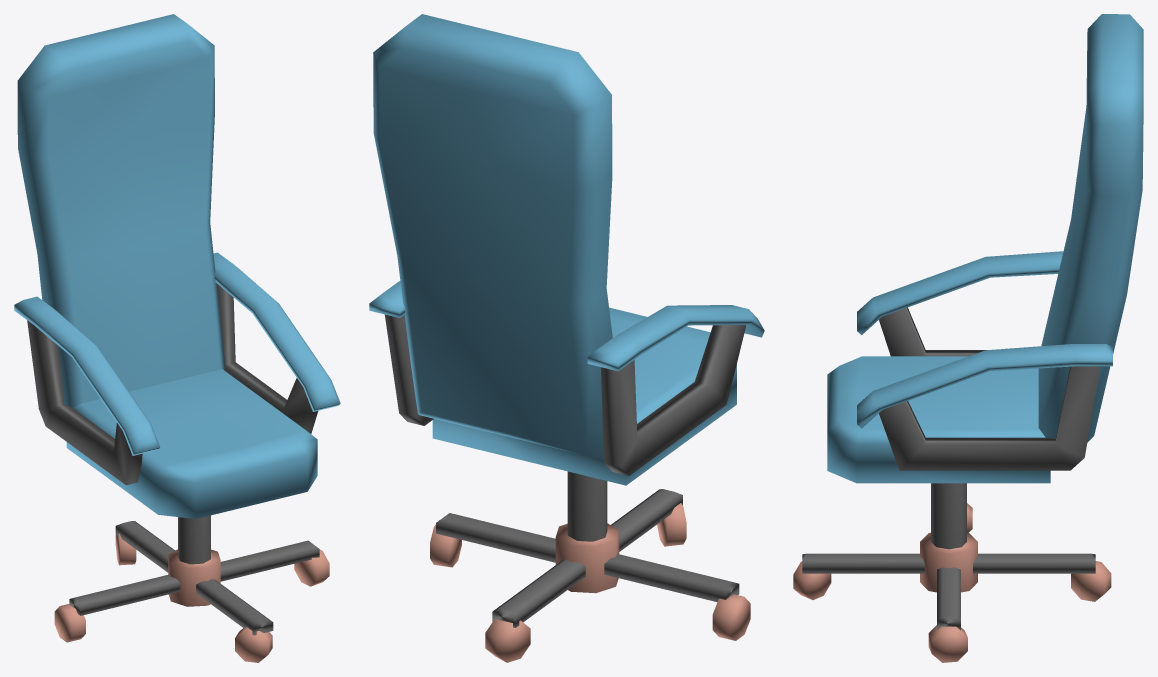
Rendered from chair_01.glb.
The picture shows the model from 3 angles, left to right: view 1: azimuth 30°, elevation 25°; view 2: azimuth 150°, elevation 25°; view 3: azimuth 270°, elevation 25°; orthographic projection. The views are drawn at different scales.
Visible parts, largest first — view 1: mesh_chair_01; view 2: mesh_chair_01; view 3: mesh_chair_01.
Part boxes in pixels (box(x1,y1,x2,y2)): mesh_chair_01: box(14, 14, 340, 662); mesh_chair_01: box(369, 14, 764, 662); mesh_chair_01: box(793, 14, 1143, 662).
Size of the model in its own units: 0.9176 by 1.78 by 1.03.
